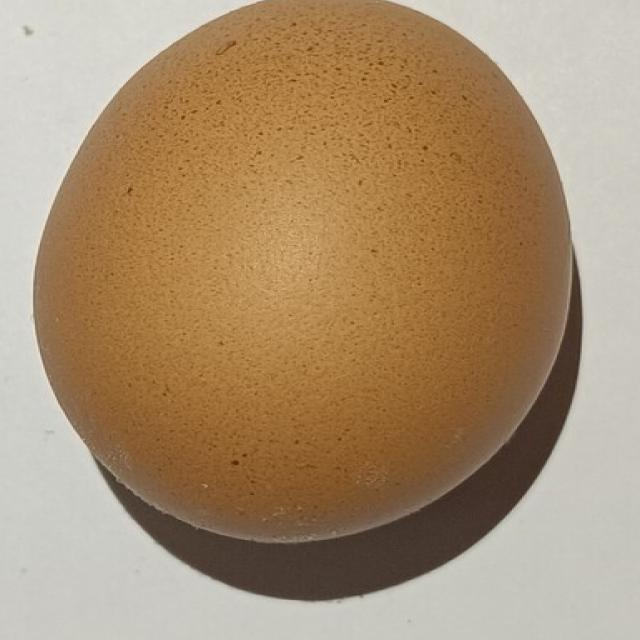unfresh: (28, 0, 582, 548)
